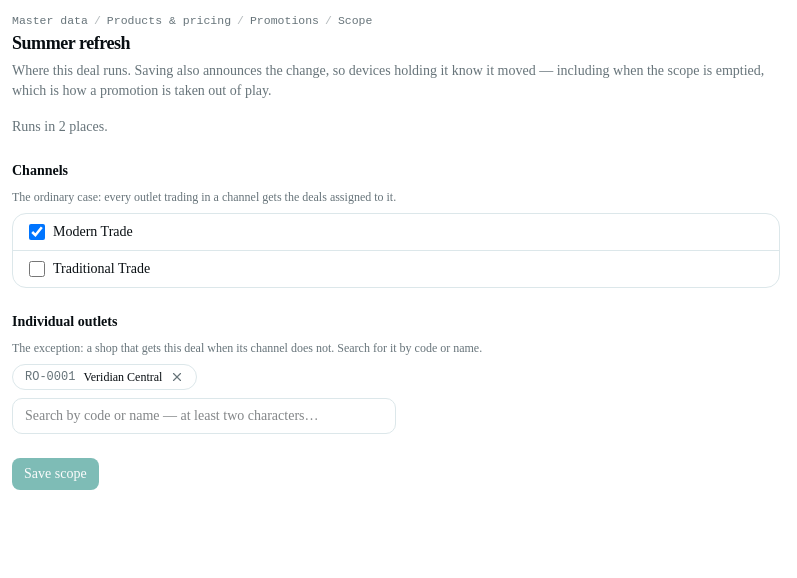
Test case: <PromotionScope> › passes on a refusal in the API's own words
This screenshot has width=797, height=578.
Expected: the button "Save scope" is shown, x1=12 y1=458 x2=99 y2=490
Step 1. Click the checkbox named "Run in Traditional Trade" → coordinates (37, 269), box x1=29 y1=261 x2=45 y2=277
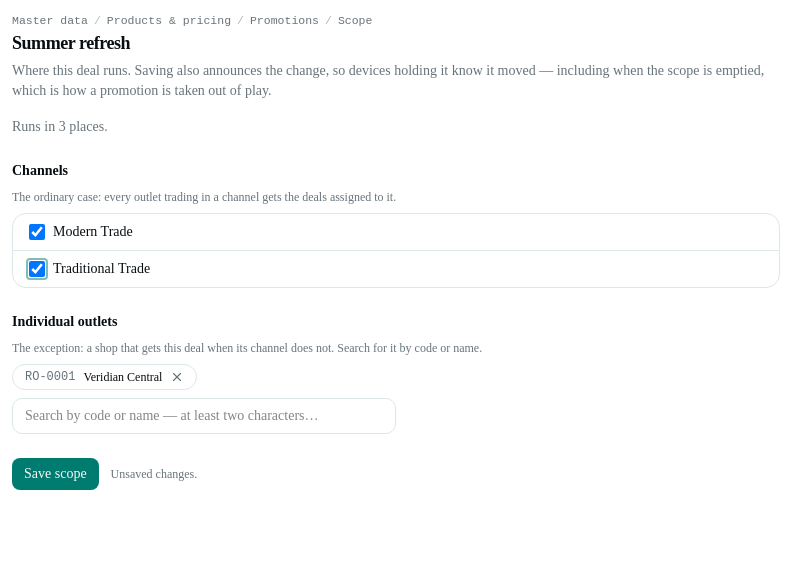
Step 2. Click the button "Save scope" → coordinates (55, 474), box x1=12 y1=458 x2=99 y2=490
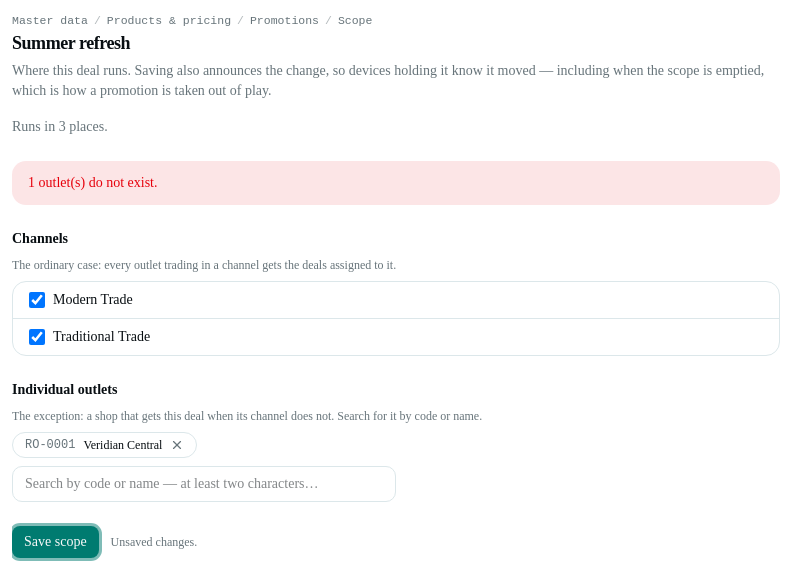
Now the message "1 outlet(s) do not exist." is shown, box x1=12 y1=161 x2=780 y2=205
